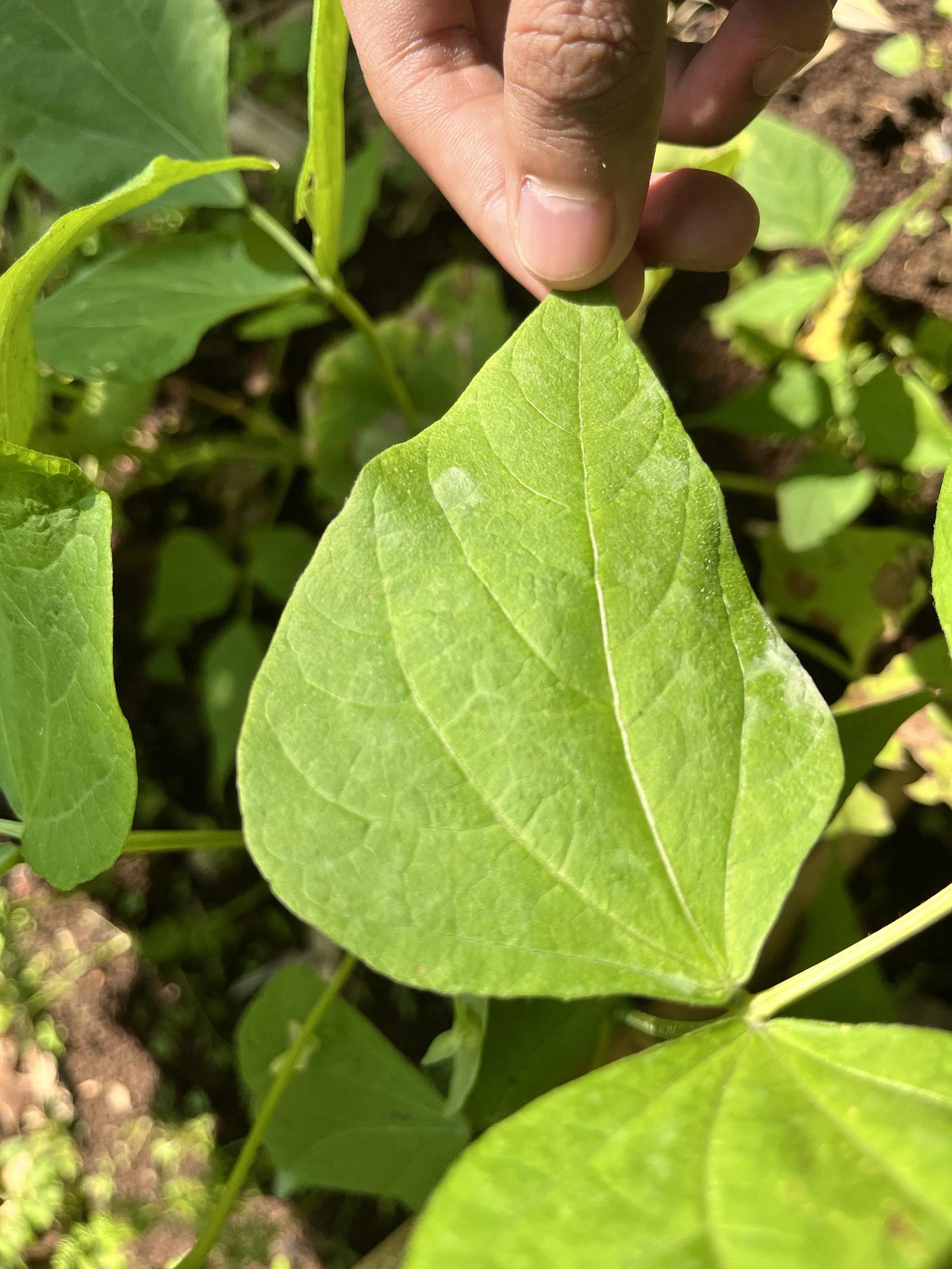embun tepung: (765, 607, 832, 737)
